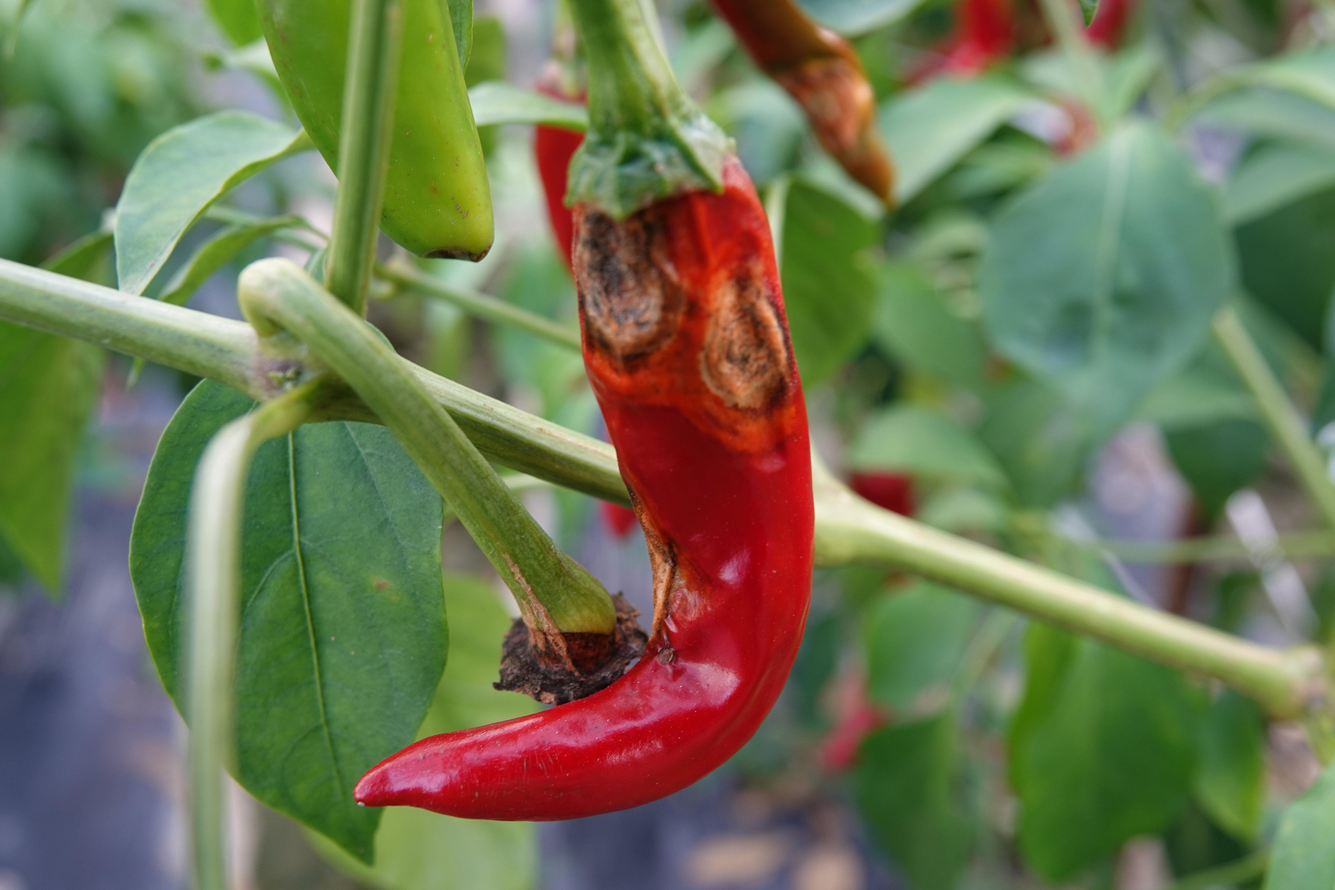Busuk Buah Antraknosa: (351, 123, 828, 826)
